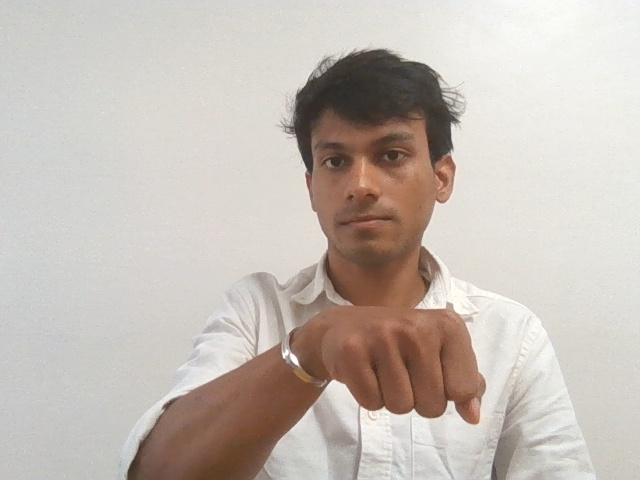Yes: (315, 298, 497, 431)
